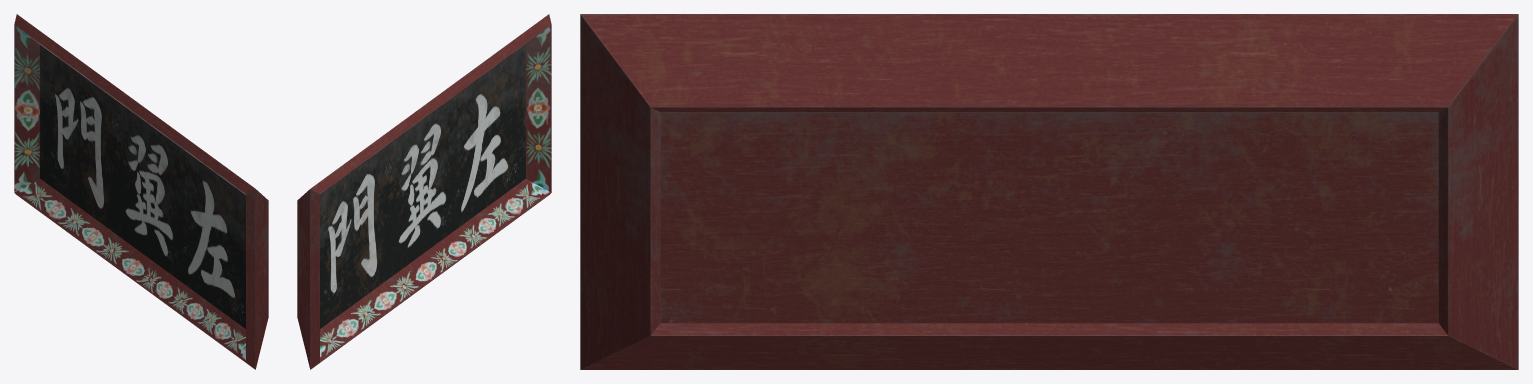
The model's file is SM_JIG_Signboard01c.fbx.
3 renders of one model, left to right at view 1: azimuth 30°, elevation 25°; view 2: azimuth 150°, elevation 25°; view 3: azimuth 270°, elevation 25°, orthographic. The views are drawn at different scales.
Parts seen in each view (by area): view 1: SM_JIG_Signboard01c; view 2: SM_JIG_Signboard01c; view 3: SM_JIG_Signboard01c.
Boxes of the visible parts, x1,y1,x2,y2 form: SM_JIG_Signboard01c: (14,14,268,369); SM_JIG_Signboard01c: (297,14,551,369); SM_JIG_Signboard01c: (580,14,1518,369).
Bounding box in the file's own units: 16.97 × 189 × 78.97.
1 material, 1 textured.
